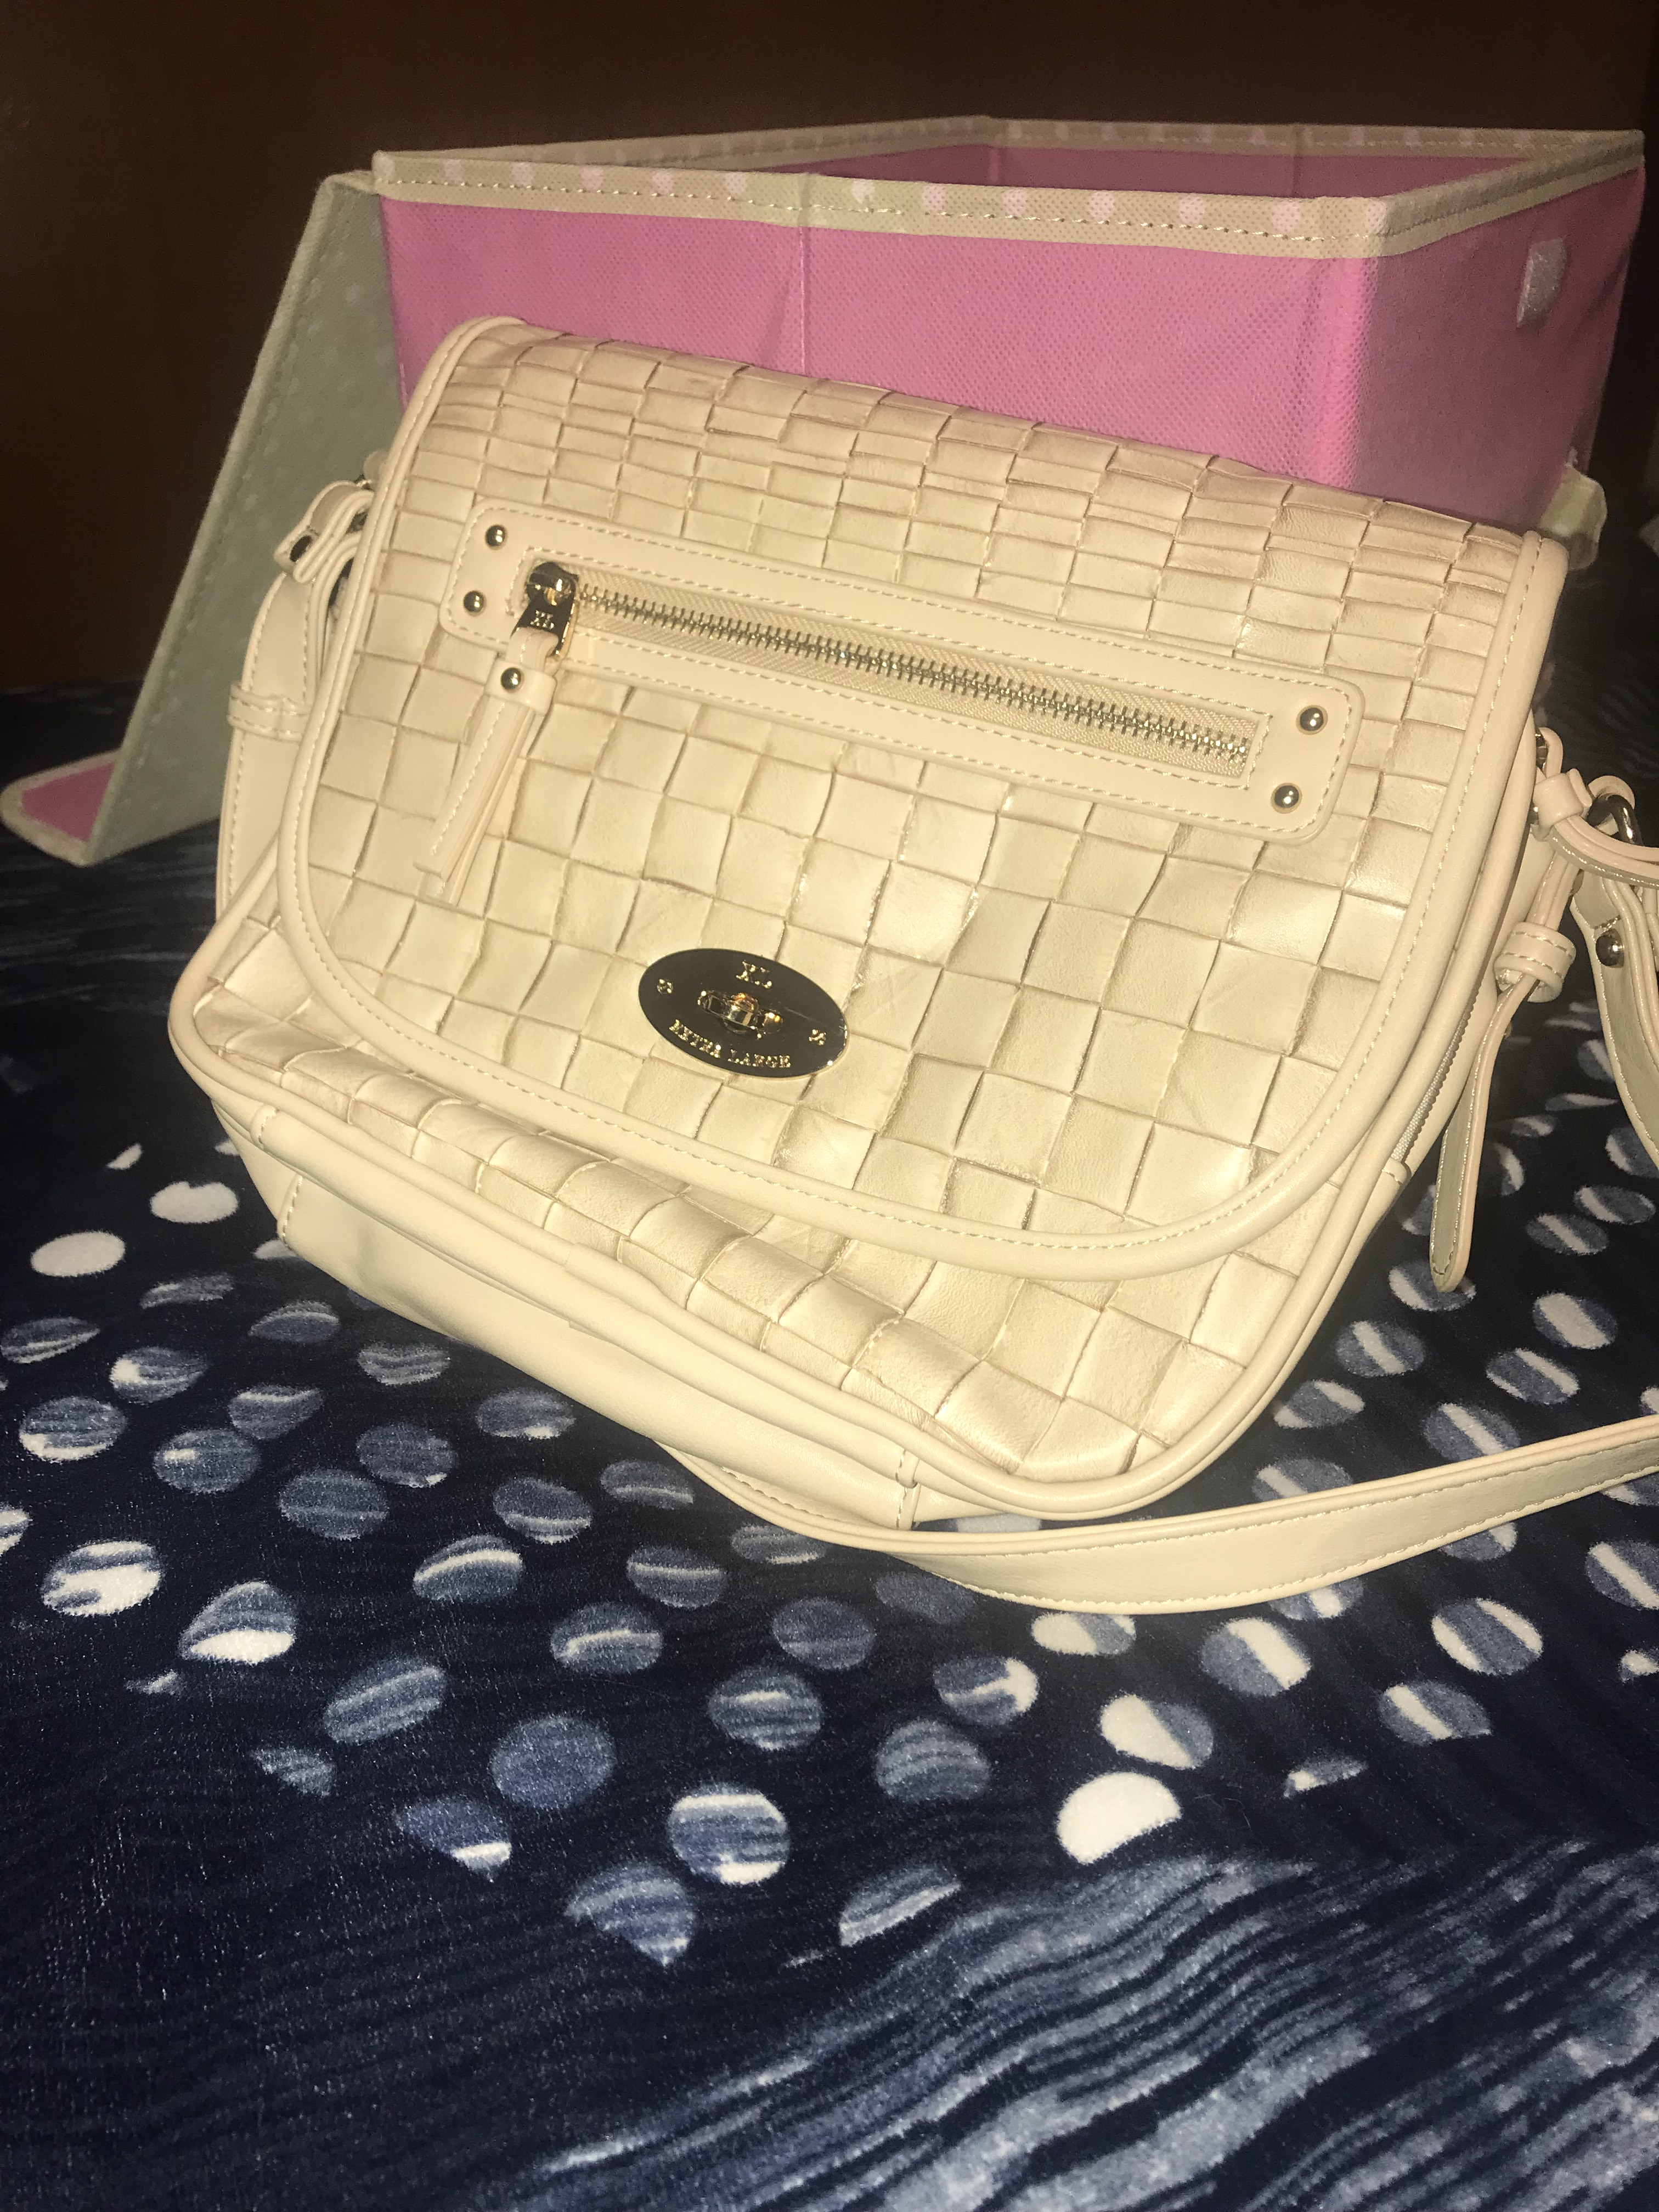cartera: (160, 308, 1659, 1629)
cuero: (958, 864, 1244, 1179)
